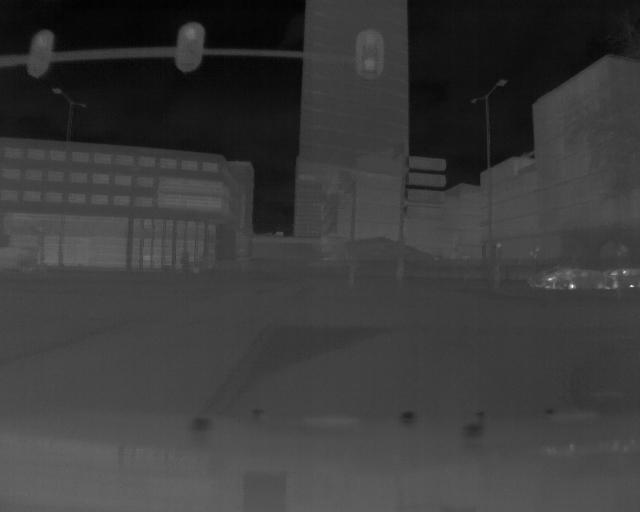car: (553, 270, 605, 291)
